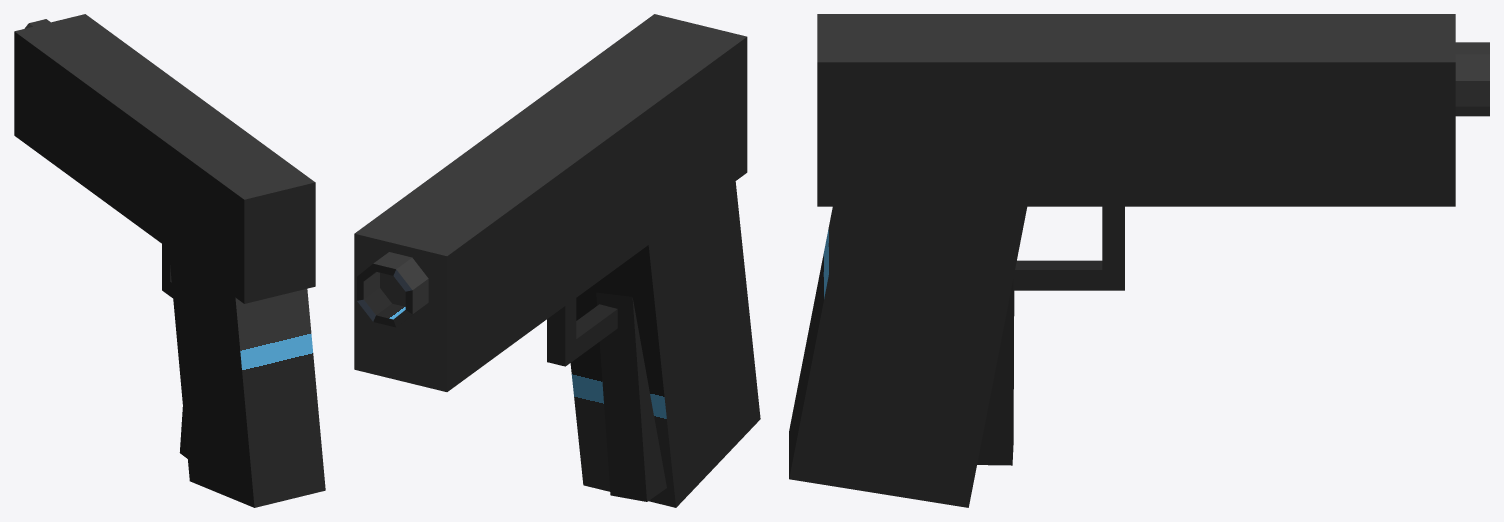
3 views of the same model, side by side, from view 1: azimuth 30°, elevation 25°; view 2: azimuth 150°, elevation 25°; view 3: azimuth 270°, elevation 25° (orthographic). The views are drawn at different scales.
Visible parts, largest first — view 1: cube (×3); view 2: cube (×6), cylinder; view 3: cube (×6), cylinder.
Boxes of the visible parts, x1,y1,x2,y2 form: cube (×3): [14, 14, 325, 507]; cube (×6): [354, 14, 760, 507]; cylinder: [357, 252, 428, 327]; cube (×6): [789, 14, 1455, 507]; cylinder: [1455, 42, 1489, 116].
Size of the model in its own units: 0.0625 by 0.2698 by 0.3843.
2 materials, 2 textured.
